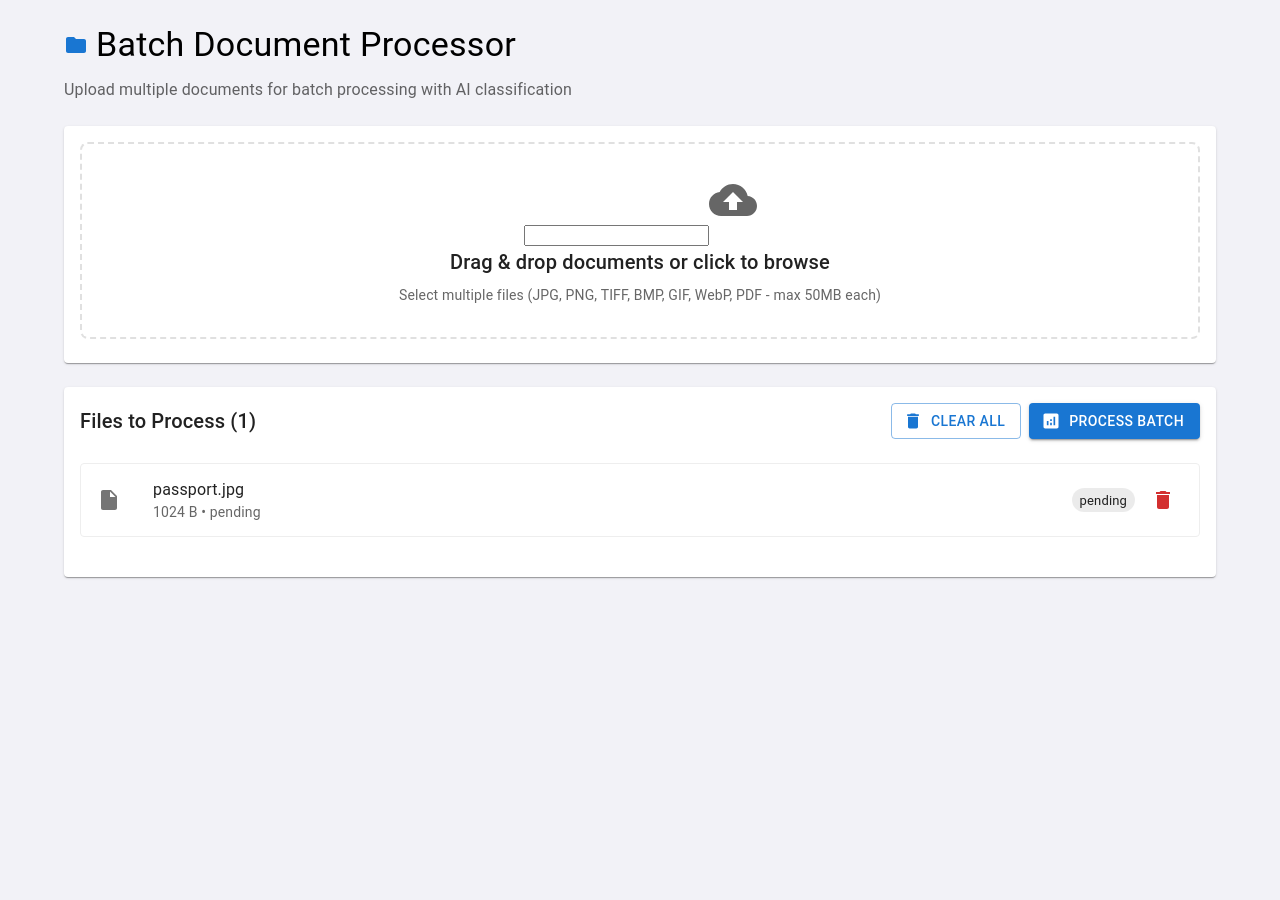
Test case: BatchProcessor › processing batch — success › shows the results section after successful batch processing
Click the button "Process Batch". click: [1115, 421]
box: [1029,403,1200,439]
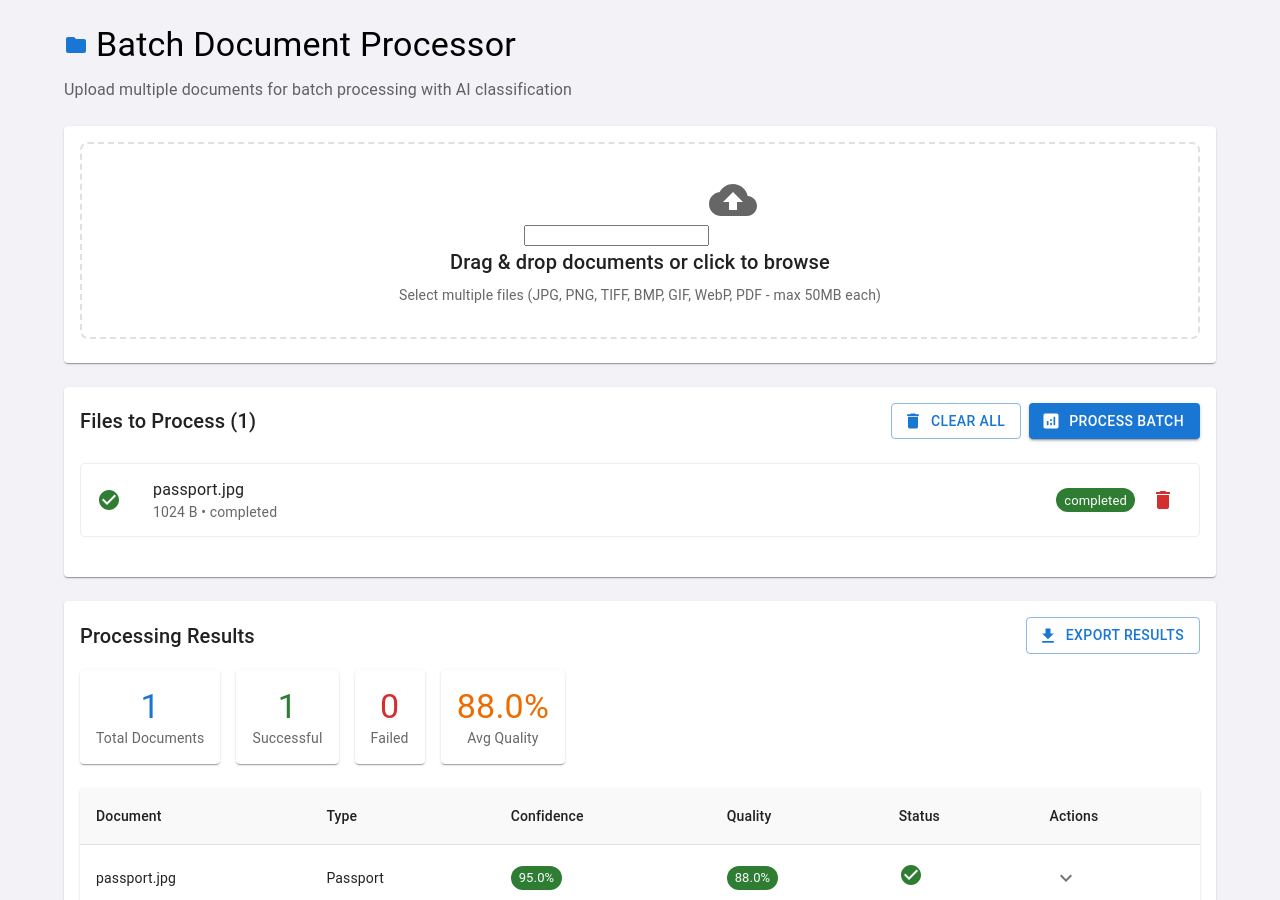
Check: the heading "Processing Results" is shown, box [80,620,255,652]
